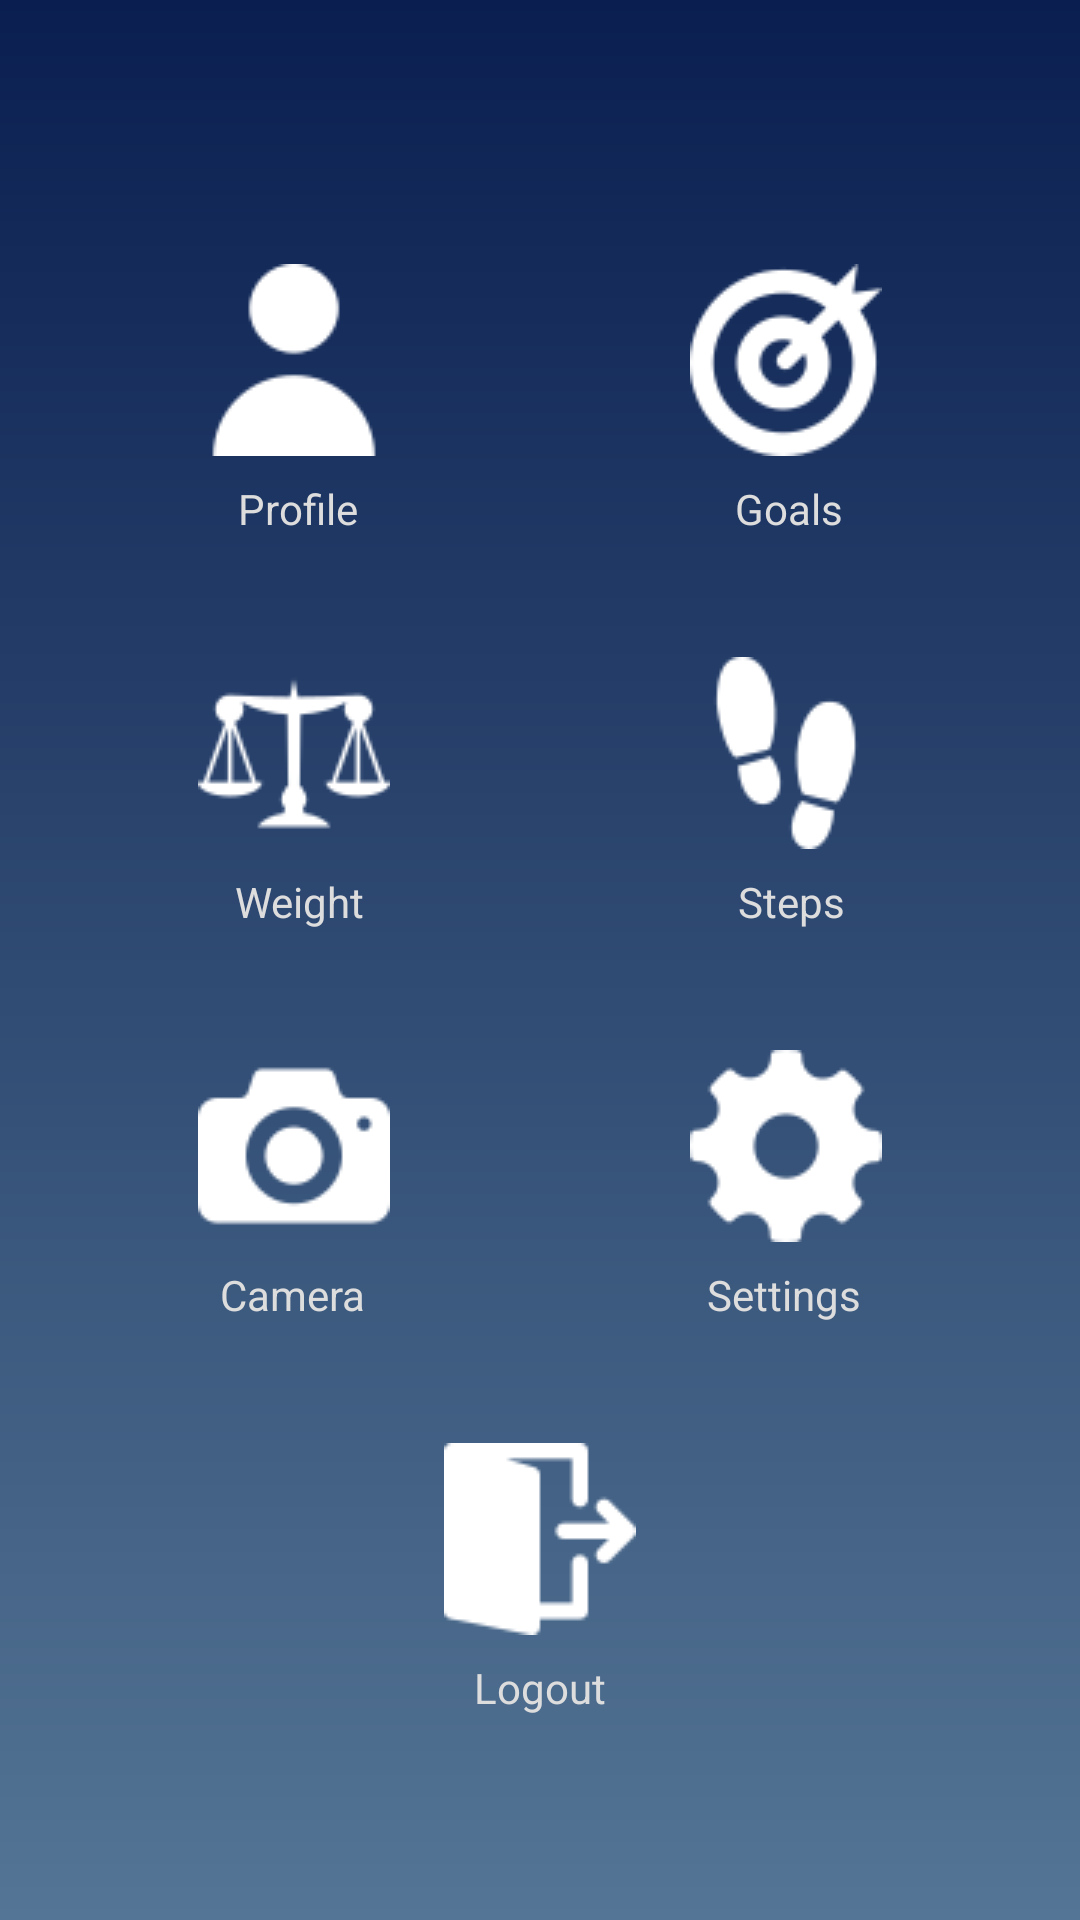

Icon bounding boxes for this 1080*1920 phone screenshot, format (x1, y1, x2, y2):
balance: (198, 681, 390, 829)
user: (212, 264, 376, 456)
